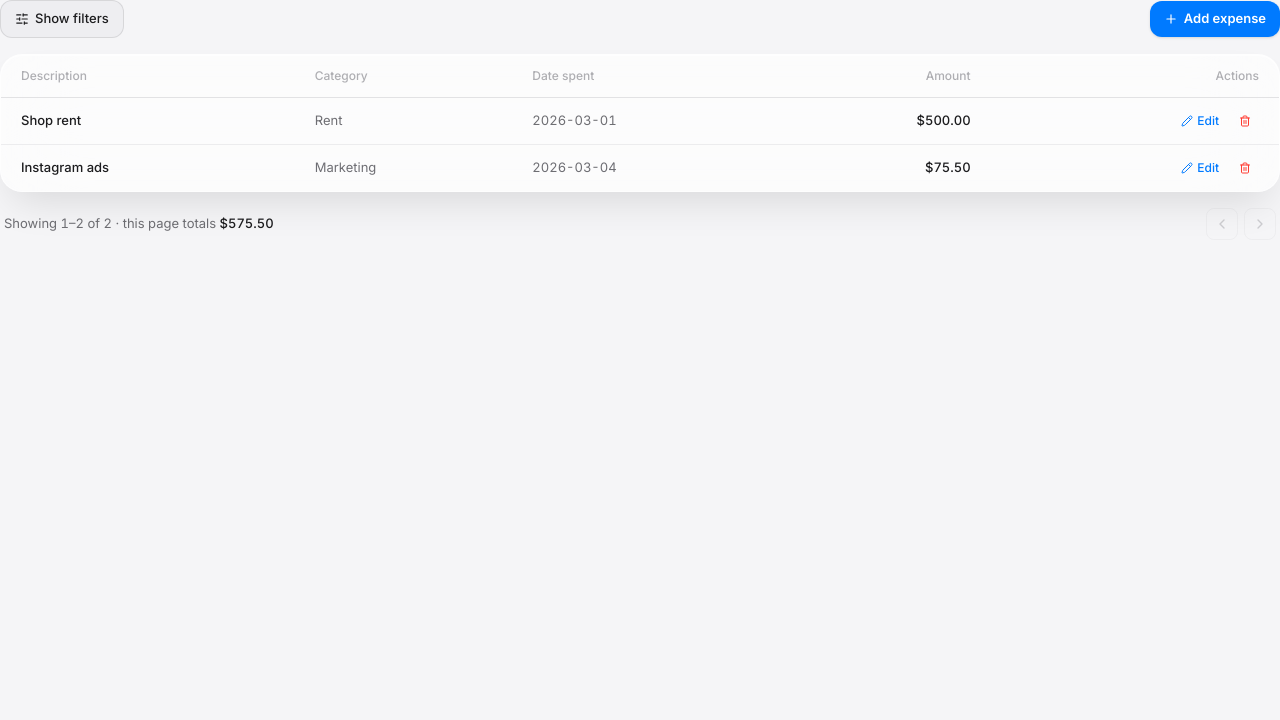
Test case: Expenses › asks before deleting
Expected: the text "Shop rent" is shown, [1,97,299,144]
Click the button named "delete" at (1245, 120), box [1231,108,1259,134]
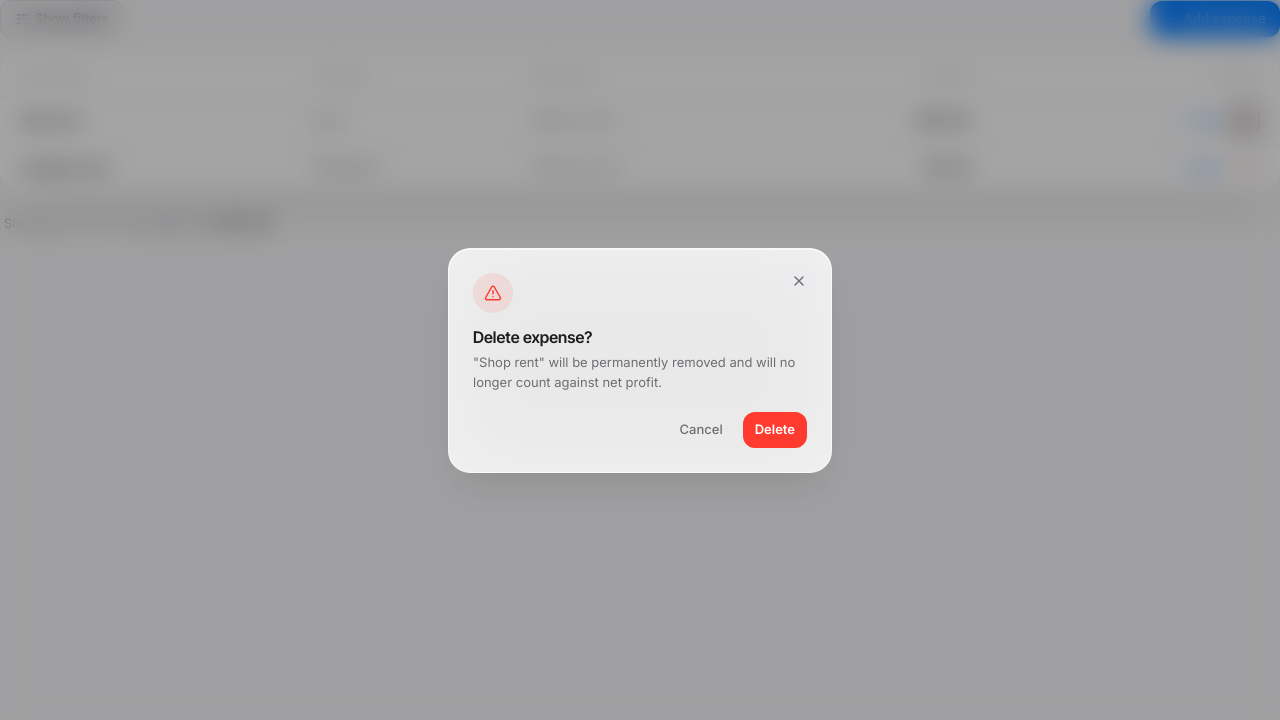
Now the text "permanently removed" is shown, box [473,354,795,389]
